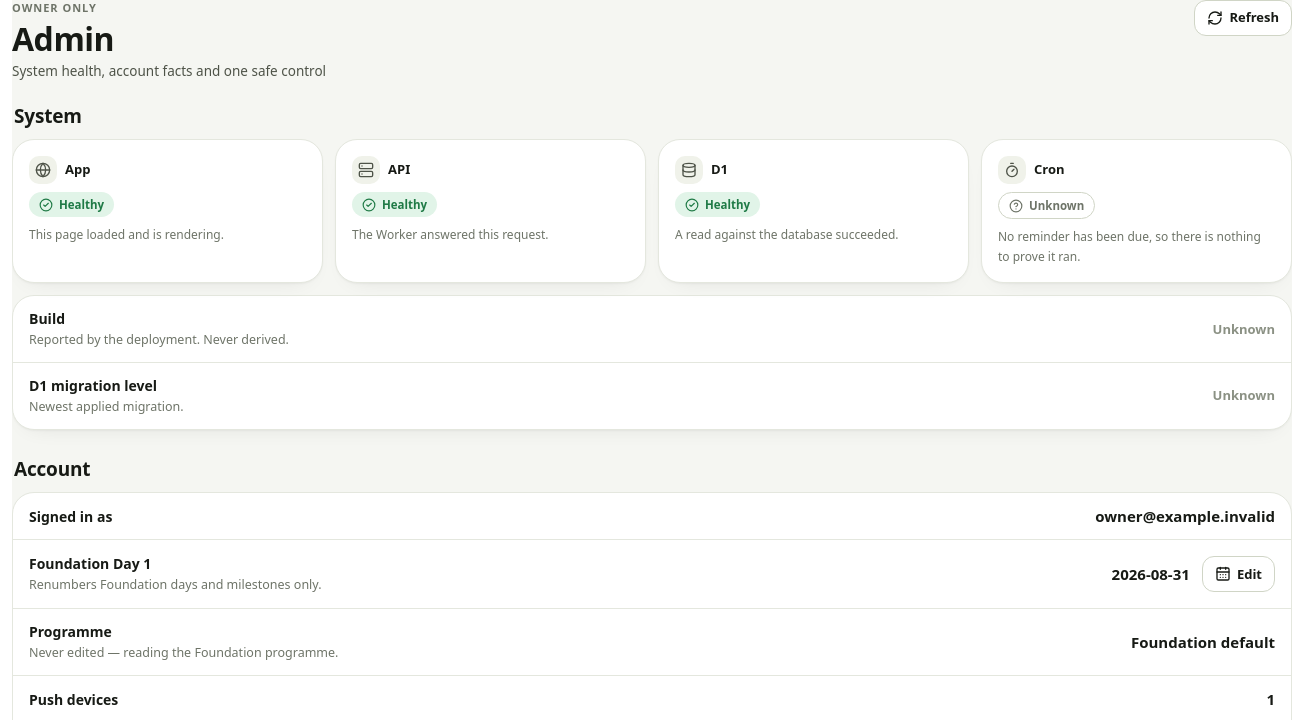
it: 4. Day 1 cannot be changed by accident › B. backing out of the confirmation writes nothing
Check: the text "Foundation Day 1" is shown, box [29,554,151,574]
Click the button "Edit".
click(1238, 574)  # box [1202,556,1275,592]
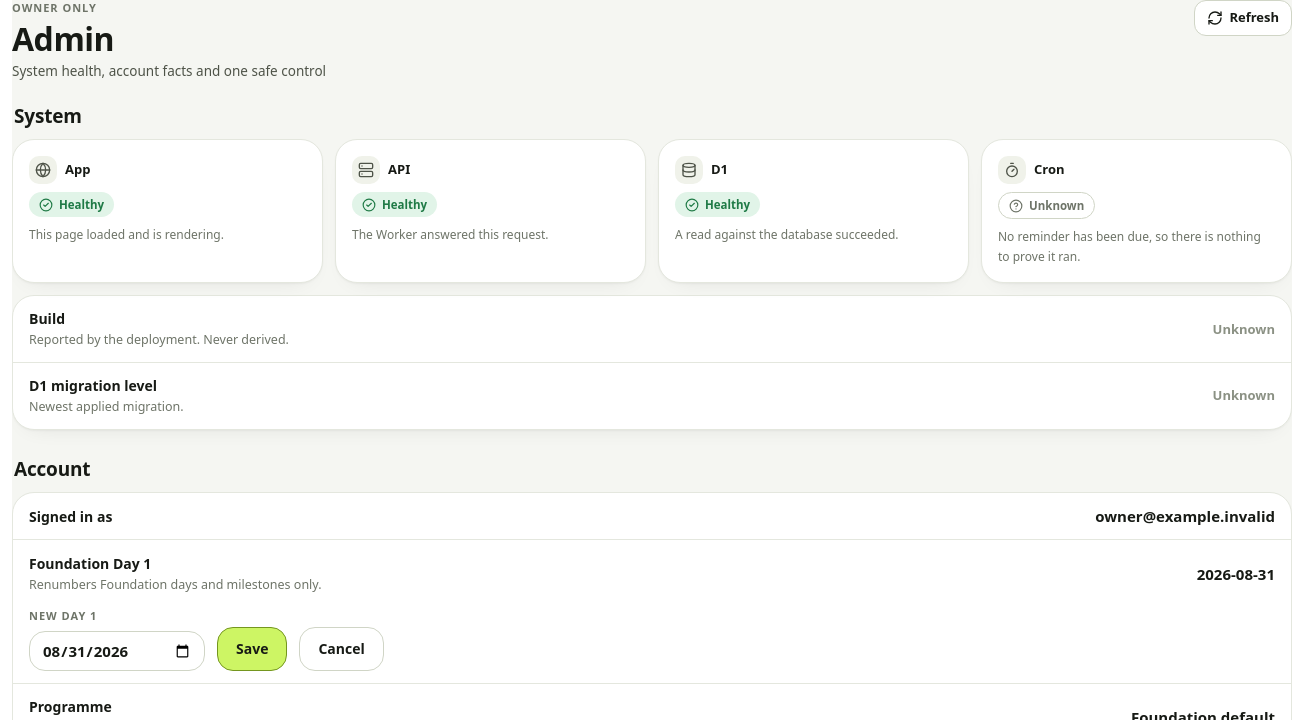
Type "2026-09-14" into the date field labelled "New Day 1".
click(117, 651); type("2026-09-14")  # box [29,631,205,671]
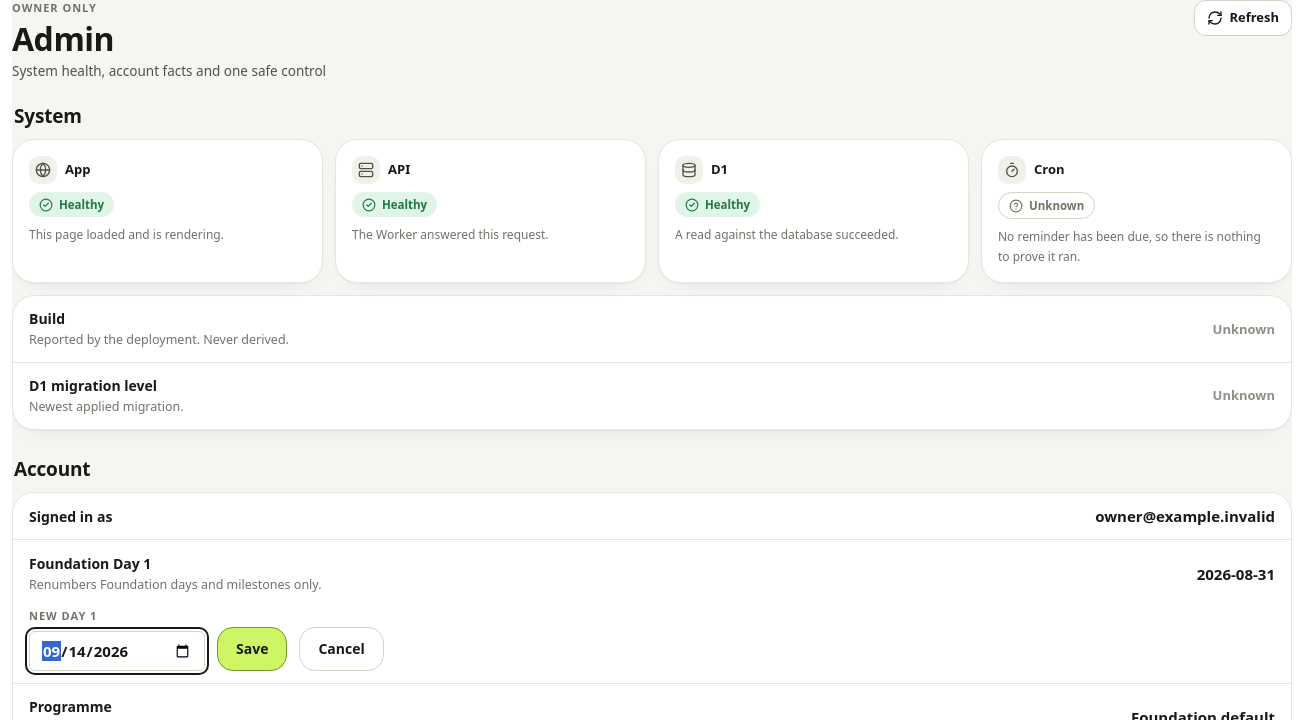
Click the button "Save".
click(252, 649)  # box [217,627,287,671]
(page scrolled)
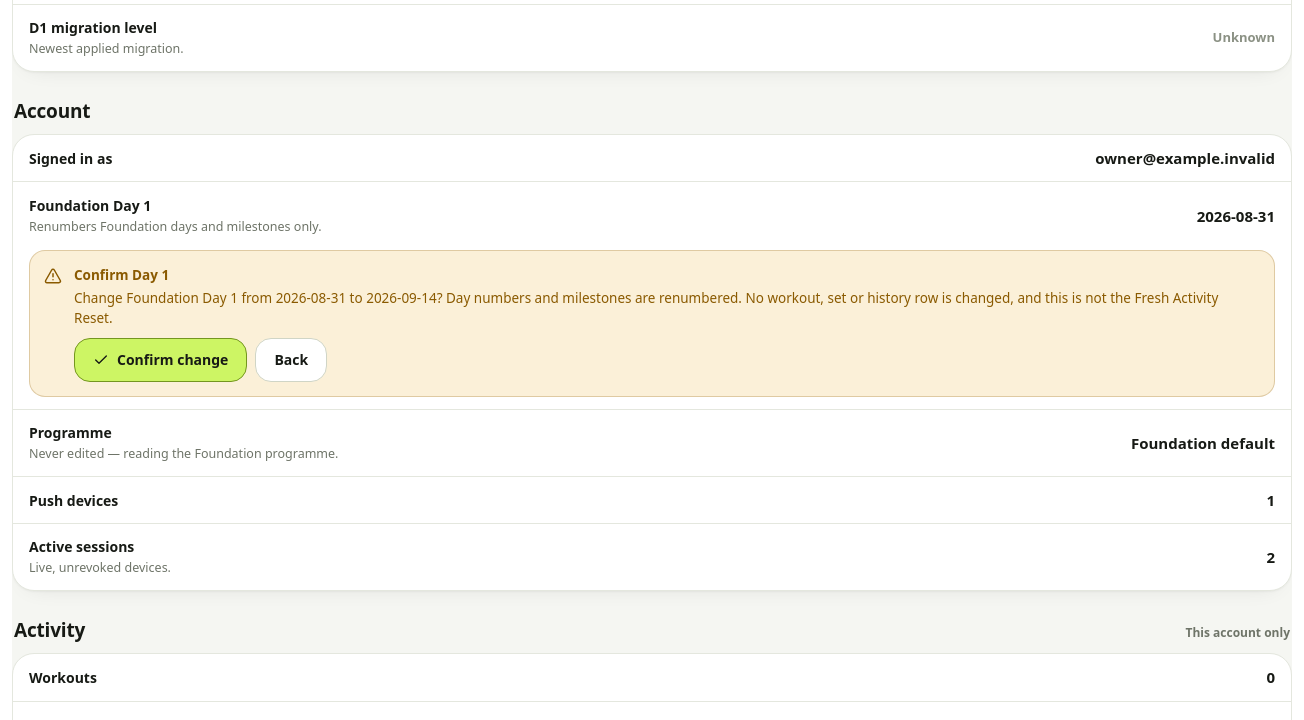
Check: the text "Confirm Day 1" is shown, box [74,266,169,284]
Click the button "Back".
click(291, 360)  # box [255,338,327,382]
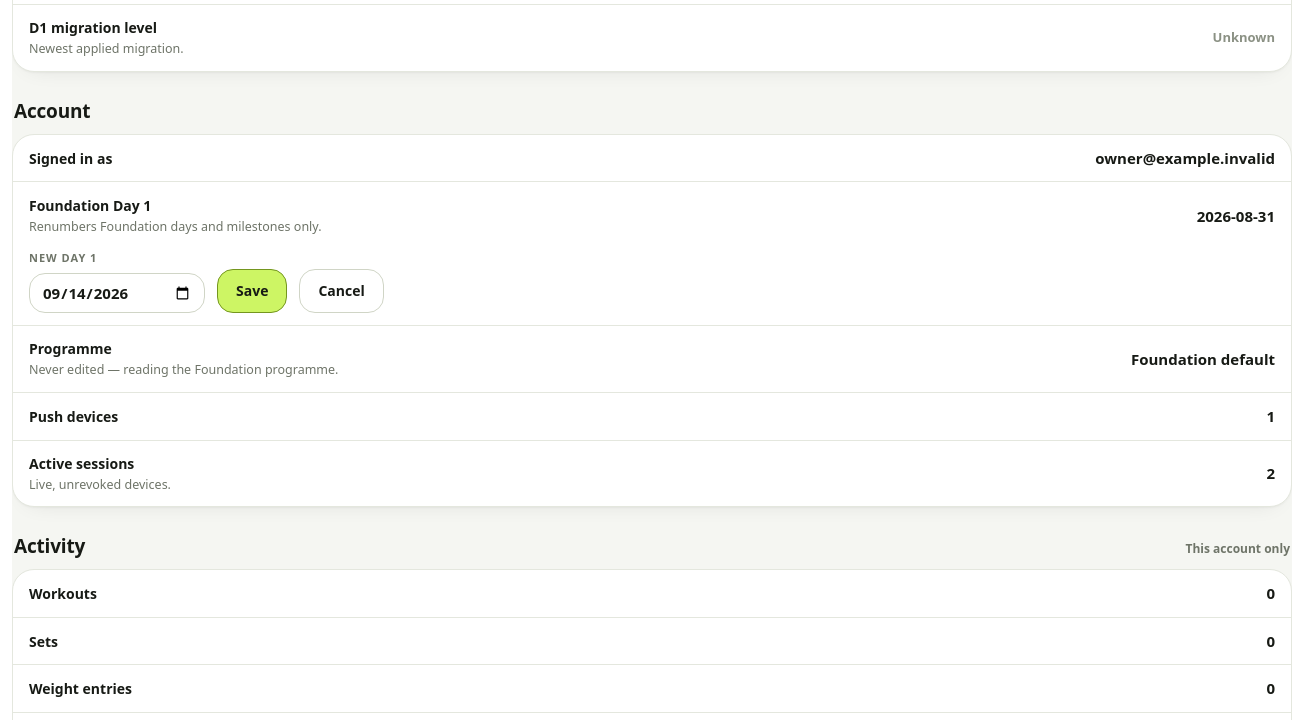
Check: the text "Confirm Day 1" is gone
